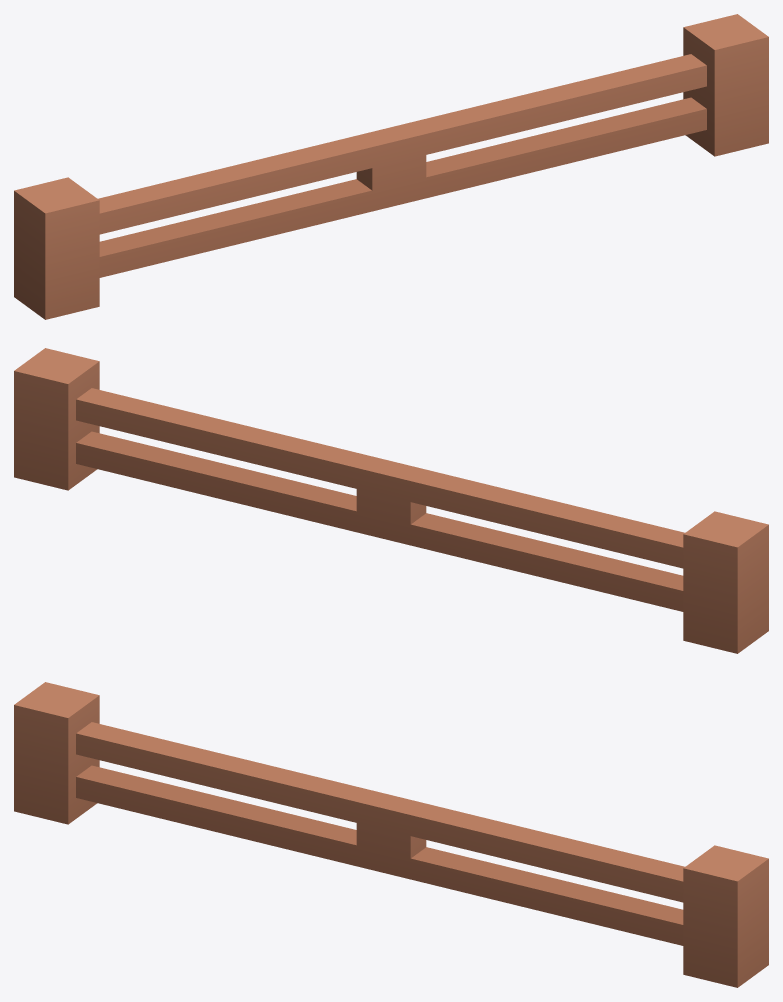
File: fence-small.glb
The picture shows the model from 3 angles, top to bottom: view 1: azimuth 30°, elevation 25°; view 2: azimuth 150°, elevation 25°; view 3: azimuth 330°, elevation 25°; orthographic projection.
Visible parts, largest first — view 1: fence; view 2: fence; view 3: fence.
Part boxes in pixels (box(x1,y1,x2,y2)): fence: box(14, 14, 768, 319); fence: box(14, 348, 768, 653); fence: box(14, 682, 768, 987).
Size of the model in its own units: 1 by 0.1406 by 0.075.
1 material, 1 textured.
